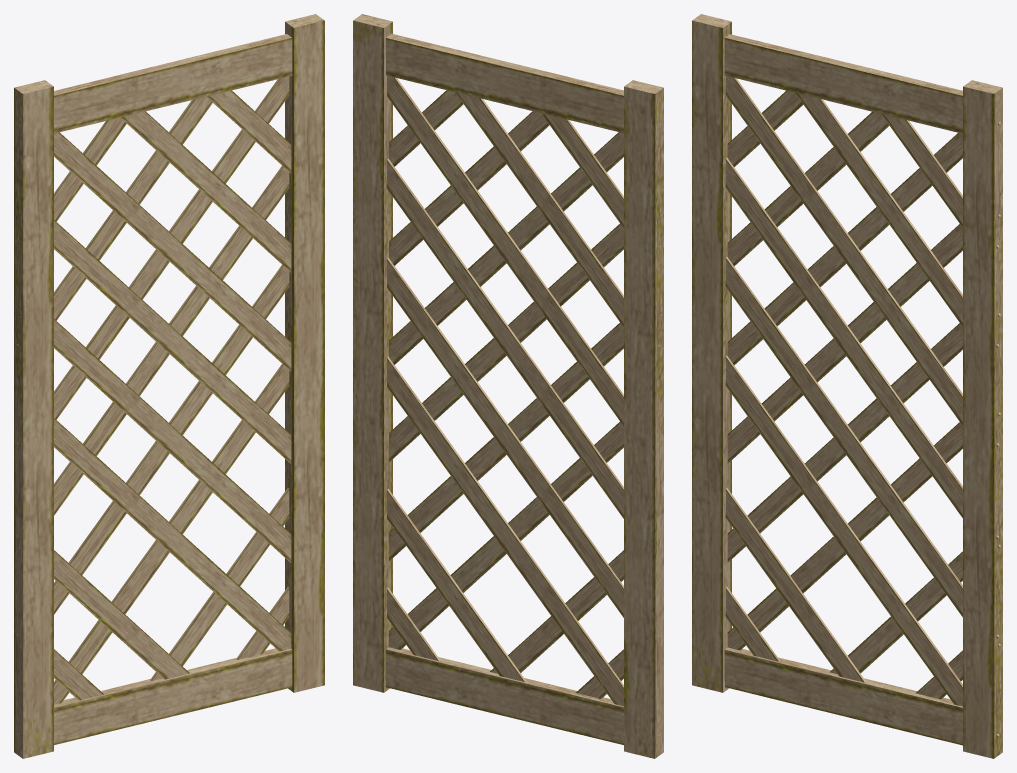
The model's file is fence_grid.fbx.
3 views of the same model, side by side, from view 1: azimuth 30°, elevation 25°; view 2: azimuth 150°, elevation 25°; view 3: azimuth 330°, elevation 25° (orthographic).
Parts seen in each view (by area): view 1: fence_grid; view 2: fence_grid; view 3: fence_grid.
Boxes of the visible parts, x1,y1,x2,y2 form: fence_grid: [14, 14, 324, 758]; fence_grid: [353, 14, 663, 758]; fence_grid: [692, 14, 1002, 758].
Bounding box in the file's own units: 96.27 × 201 × 4.9.
